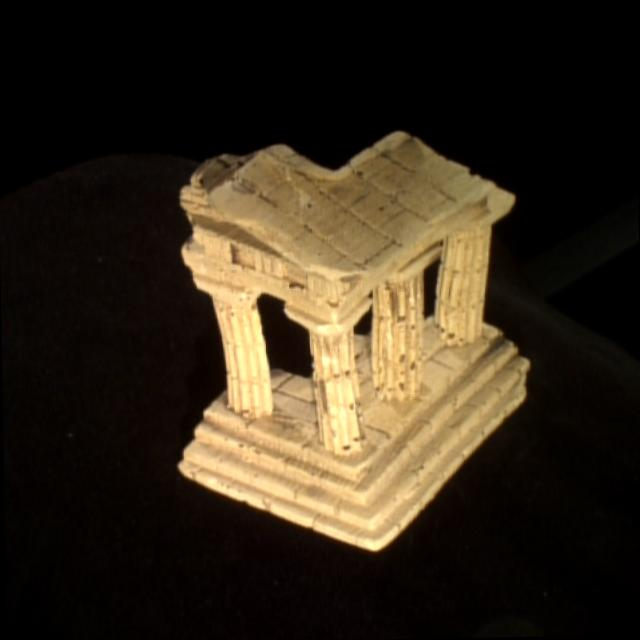Instance-Segmentation: (180, 133, 528, 548)
